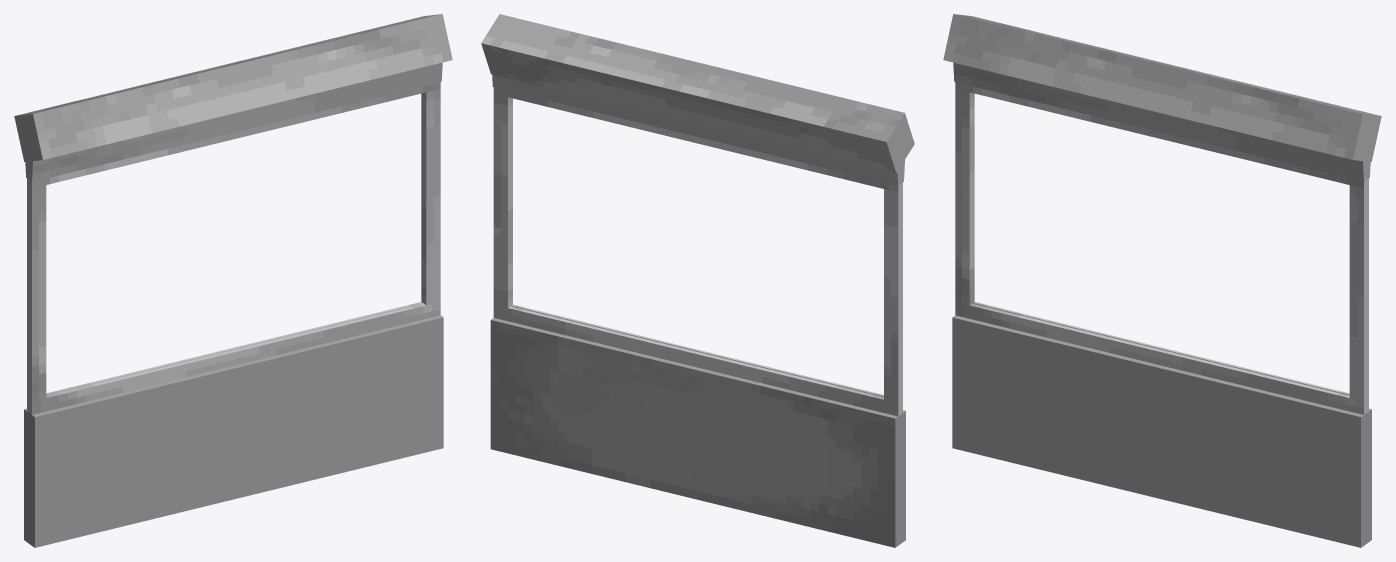
The model's file is Window.gltf.
3 views of the same model, side by side, from view 1: azimuth 30°, elevation 25°; view 2: azimuth 150°, elevation 25°; view 3: azimuth 330°, elevation 25° (orthographic).
Parts seen in each view (by area): view 1: cuboid, Window; view 2: cuboid, Window; view 3: cuboid, Window.
Part boxes in pixels (x1,y1,x2,y2): cuboid: (24,315,443,547); Window: (14,14,452,414); cuboid: (490,318,905,547); Window: (481,14,914,416); cuboid: (952,315,1371,547); Window: (943,14,1381,414).
Bounding box in the file's own units: 3.01 × 3.04 × 0.3647.
Materials: 4 (4 with a texture image).
